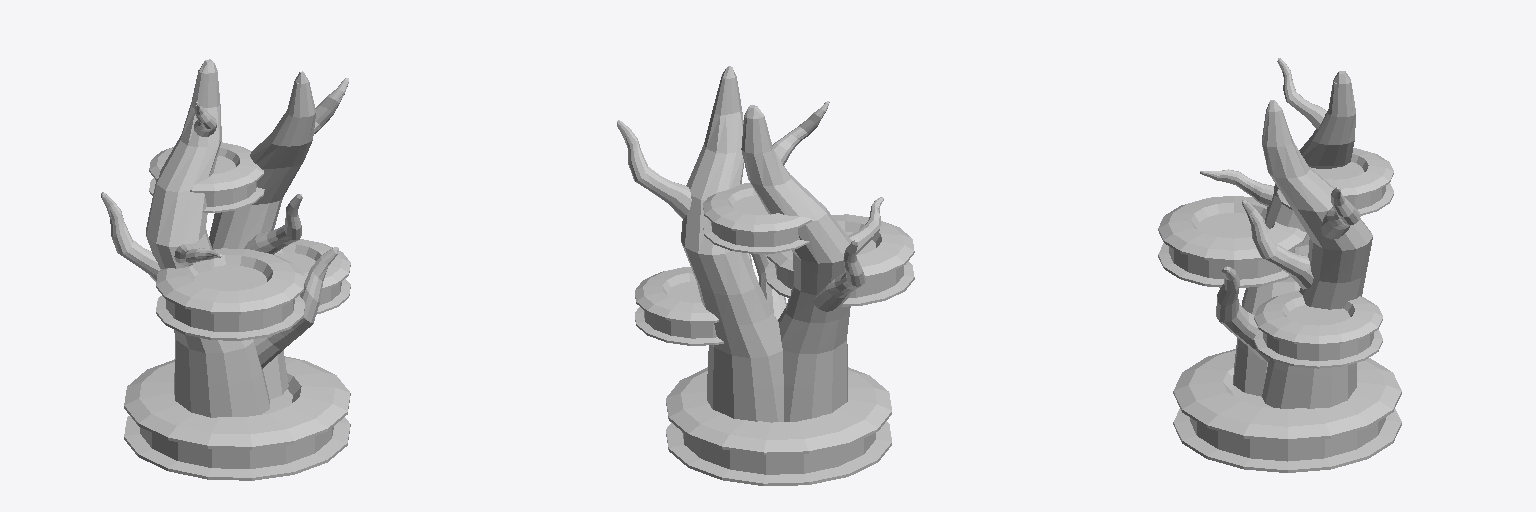
Rendered from UrdenTowerTree.obj.
3 views of the same model, side by side, from view 1: azimuth 30°, elevation 25°; view 2: azimuth 150°, elevation 25°; view 3: azimuth 270°, elevation 25° (orthographic).
Parts seen in each view (by area): view 1: polySurface1; view 2: polySurface1; view 3: polySurface1.
Part boxes in pixels (bbox=[...]): polySurface1: bbox=[101, 59, 350, 480]; polySurface1: bbox=[617, 66, 914, 485]; polySurface1: bbox=[1158, 58, 1401, 472].
Size of the model in its own units: 12.26 by 16.89 by 10.59.